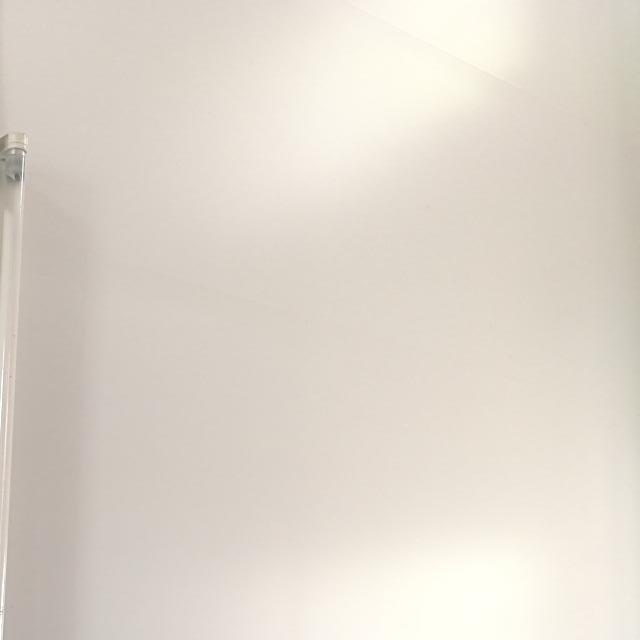fluorescent tube: (0, 106, 65, 640)
